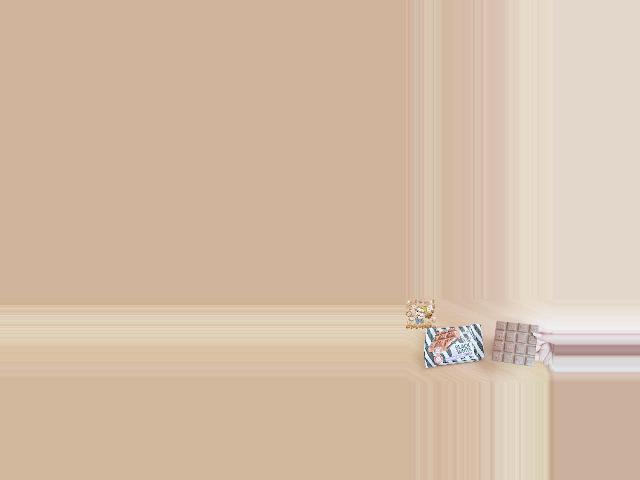chocolate: (421, 325, 486, 367)
